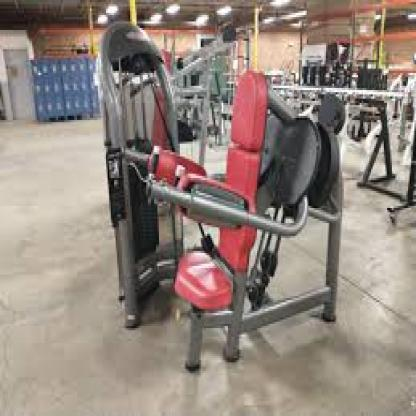lateral raises machine: (99, 20, 350, 372)
